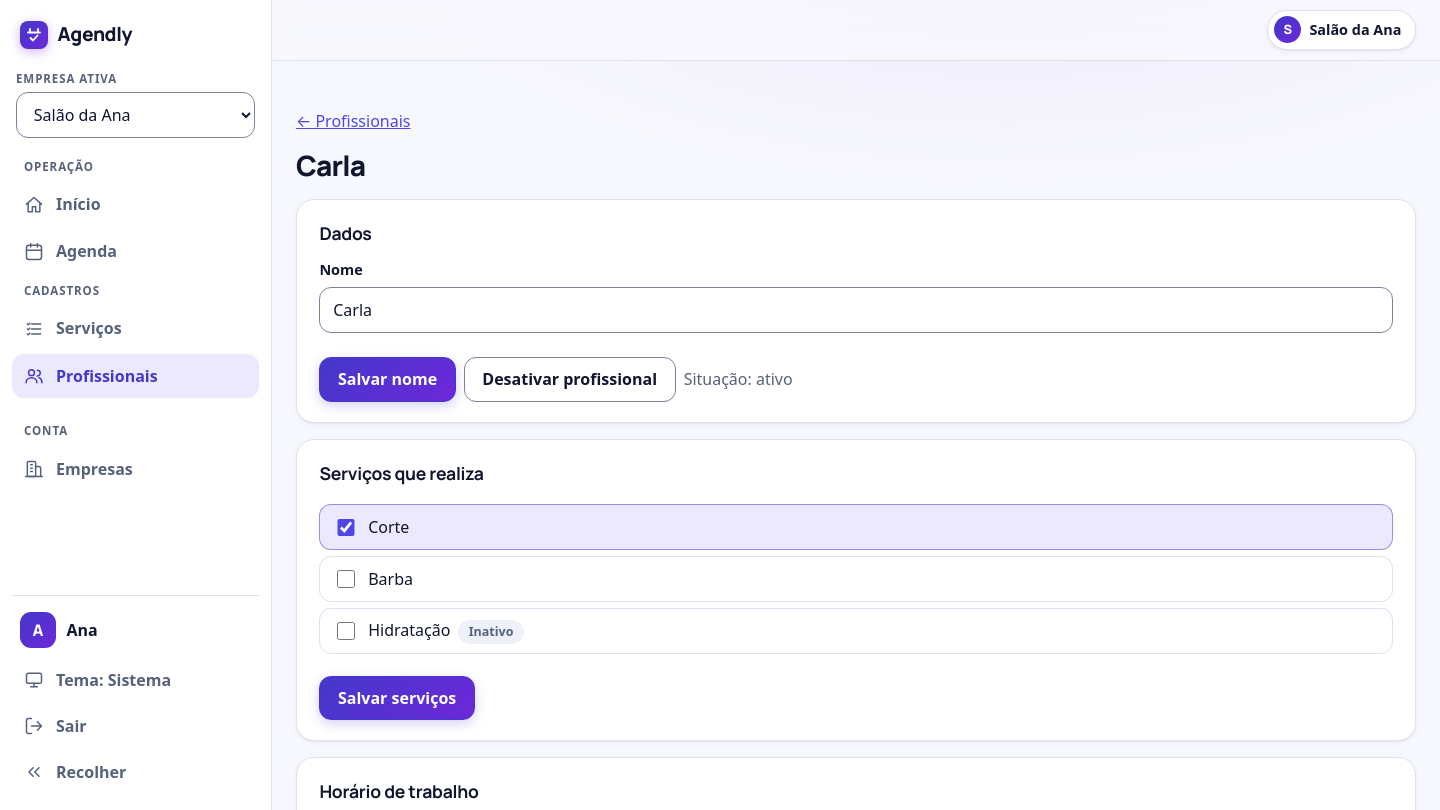
Test case: página do profissional › desativar e reativar o profissional (agendamentos existentes permanecem)
The width and height of the screenshot is (1440, 810).
Click the button "Desativar profissional" at [570, 379], box [464,357,676,402]
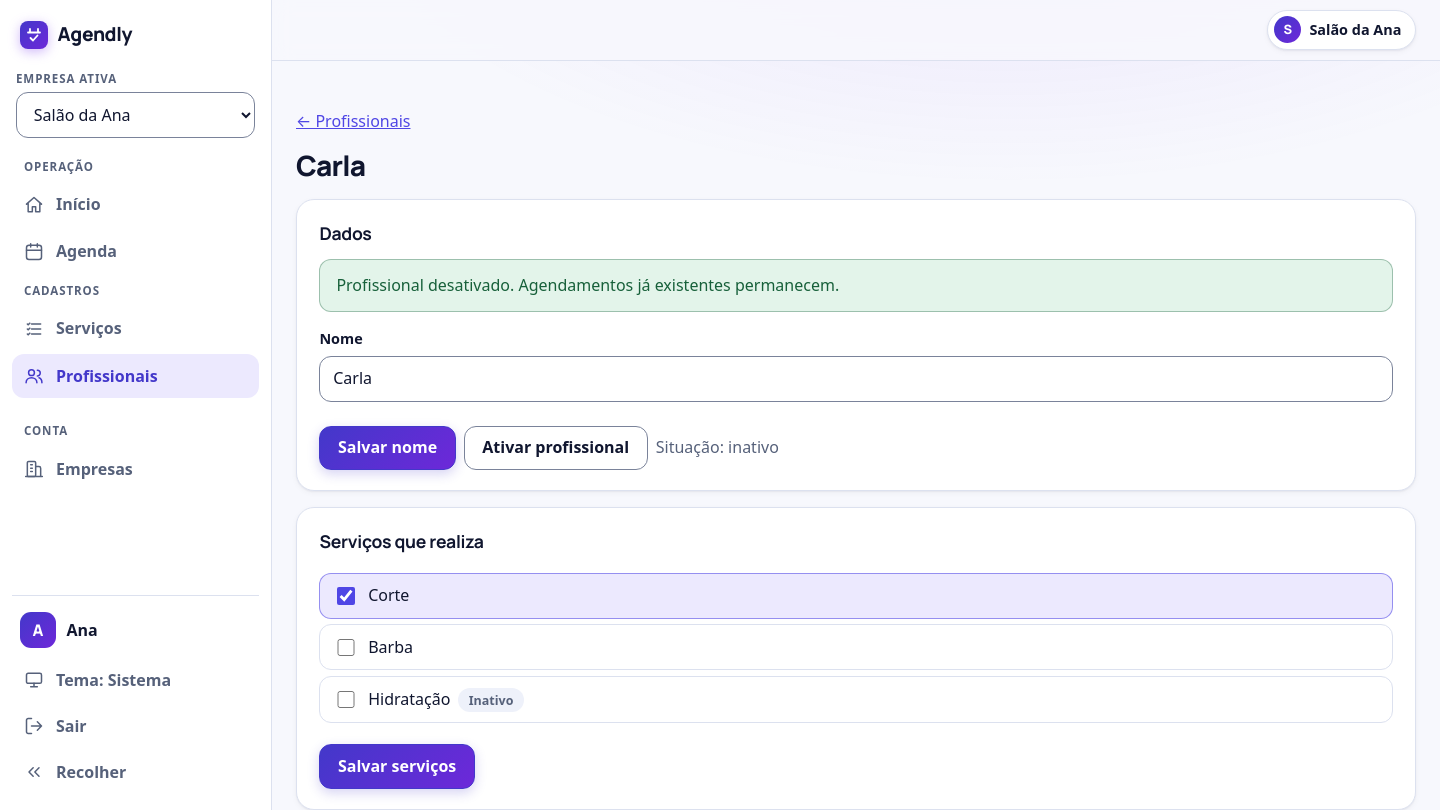
Expected: the button "Ativar profissional" is shown, [464,426,648,470]
Result: the text "Profissional desativado. Agendamentos já existentes permanecem." is shown at [319,259,1393,312]
Result: the text "Situação: inativo" is shown at [656,435,779,460]
